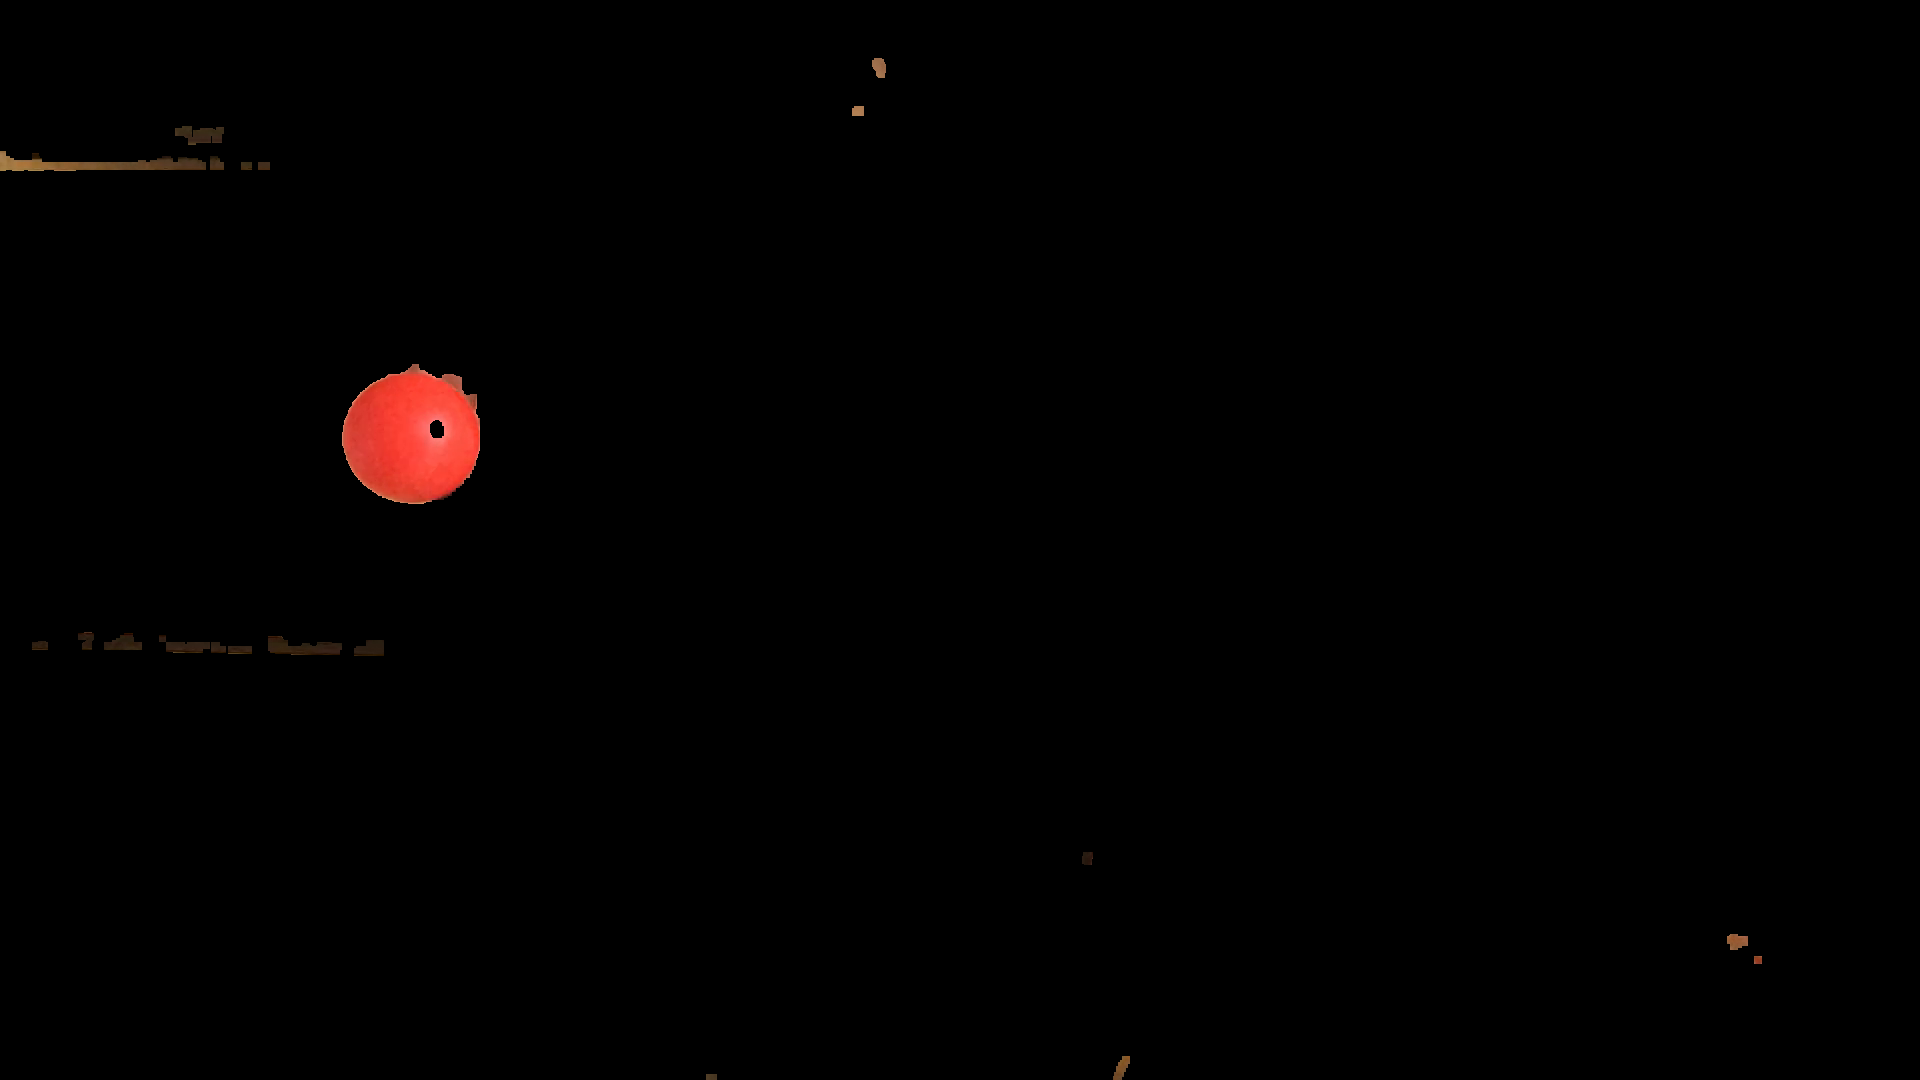Ball: (343, 369, 472, 505)
